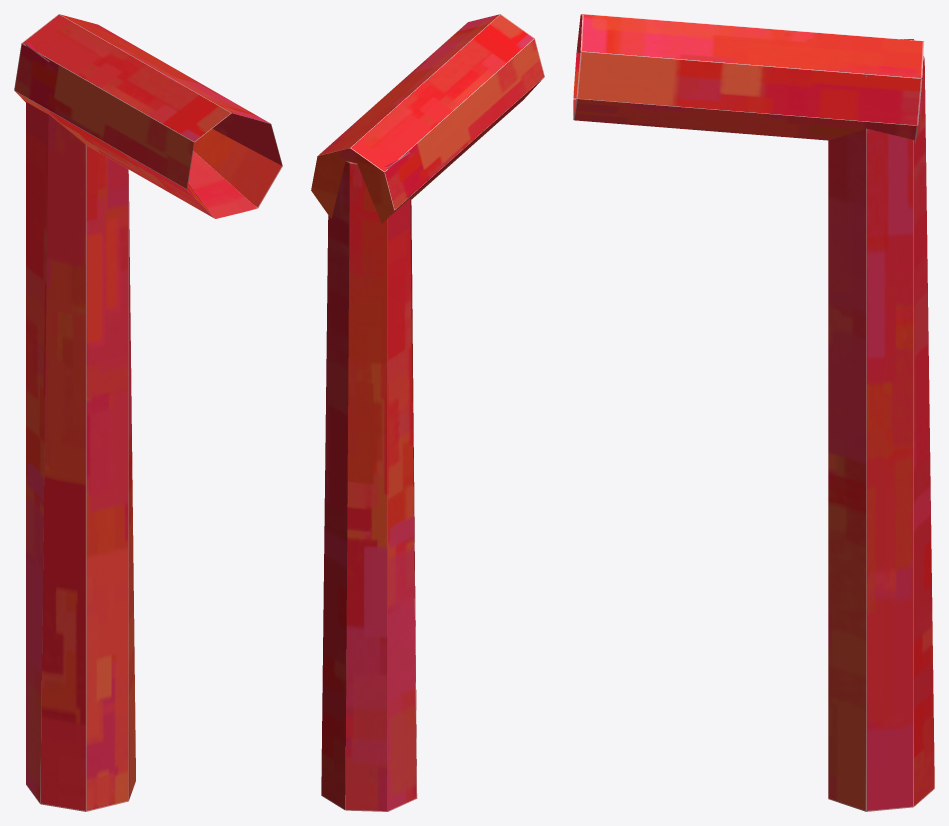
File: Paile.fbx
The picture shows the model from 3 angles, left to right: view 1: azimuth 30°, elevation 25°; view 2: azimuth 150°, elevation 25°; view 3: azimuth 270°, elevation 25°; orthographic projection. The views are drawn at different scales.
Visible parts, largest first — view 1: cylinder, cylinder_1; view 2: cylinder, cylinder_1; view 3: cylinder, cylinder_1.
Boxes of the visible parts, box(x1,y1,x2,y2) form: cylinder: box(26, 42, 135, 811); cylinder_1: box(14, 14, 282, 218); cylinder: box(321, 148, 417, 811); cylinder_1: box(311, 14, 544, 223); cylinder: box(828, 39, 934, 811); cylinder_1: box(573, 14, 923, 143).
Bounding box in the file's own units: 6.76 × 52.97 × 22.4.
Materials: 1 (1 with a texture image).
